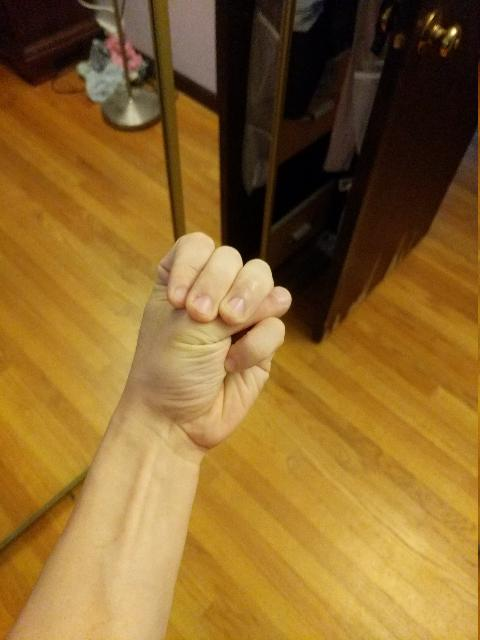M: (127, 227, 297, 455)
